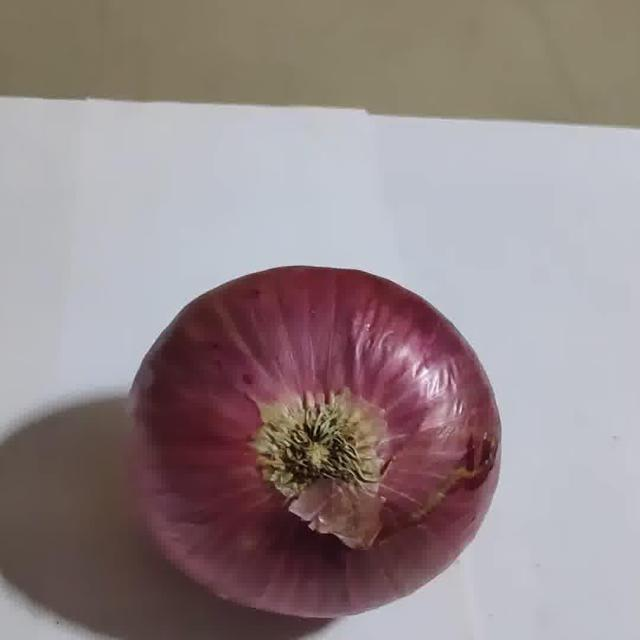Onion: (133, 267, 500, 619)
